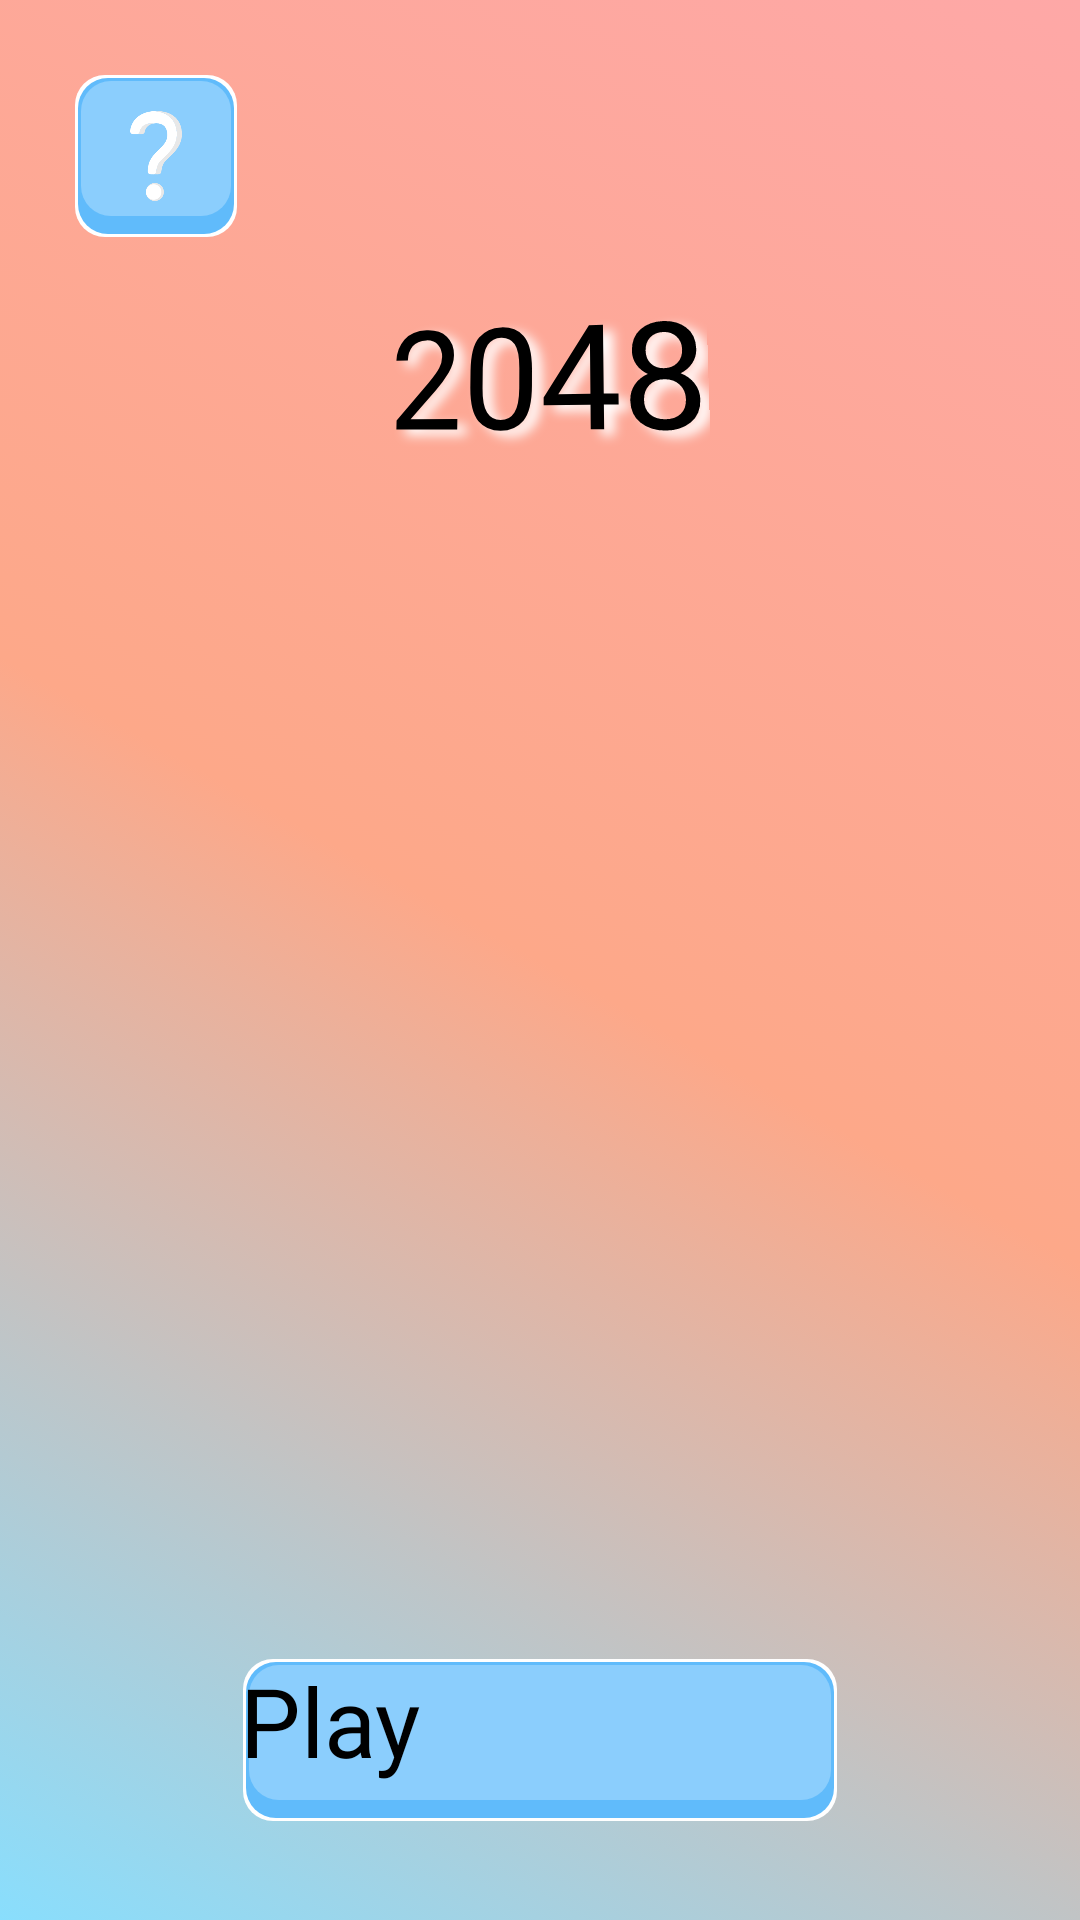

Locate icon controls on the screen. Image size 1080*1920, boxes as BBox(x1, y1, x2, y2).
question: BBox(75, 75, 237, 237)
